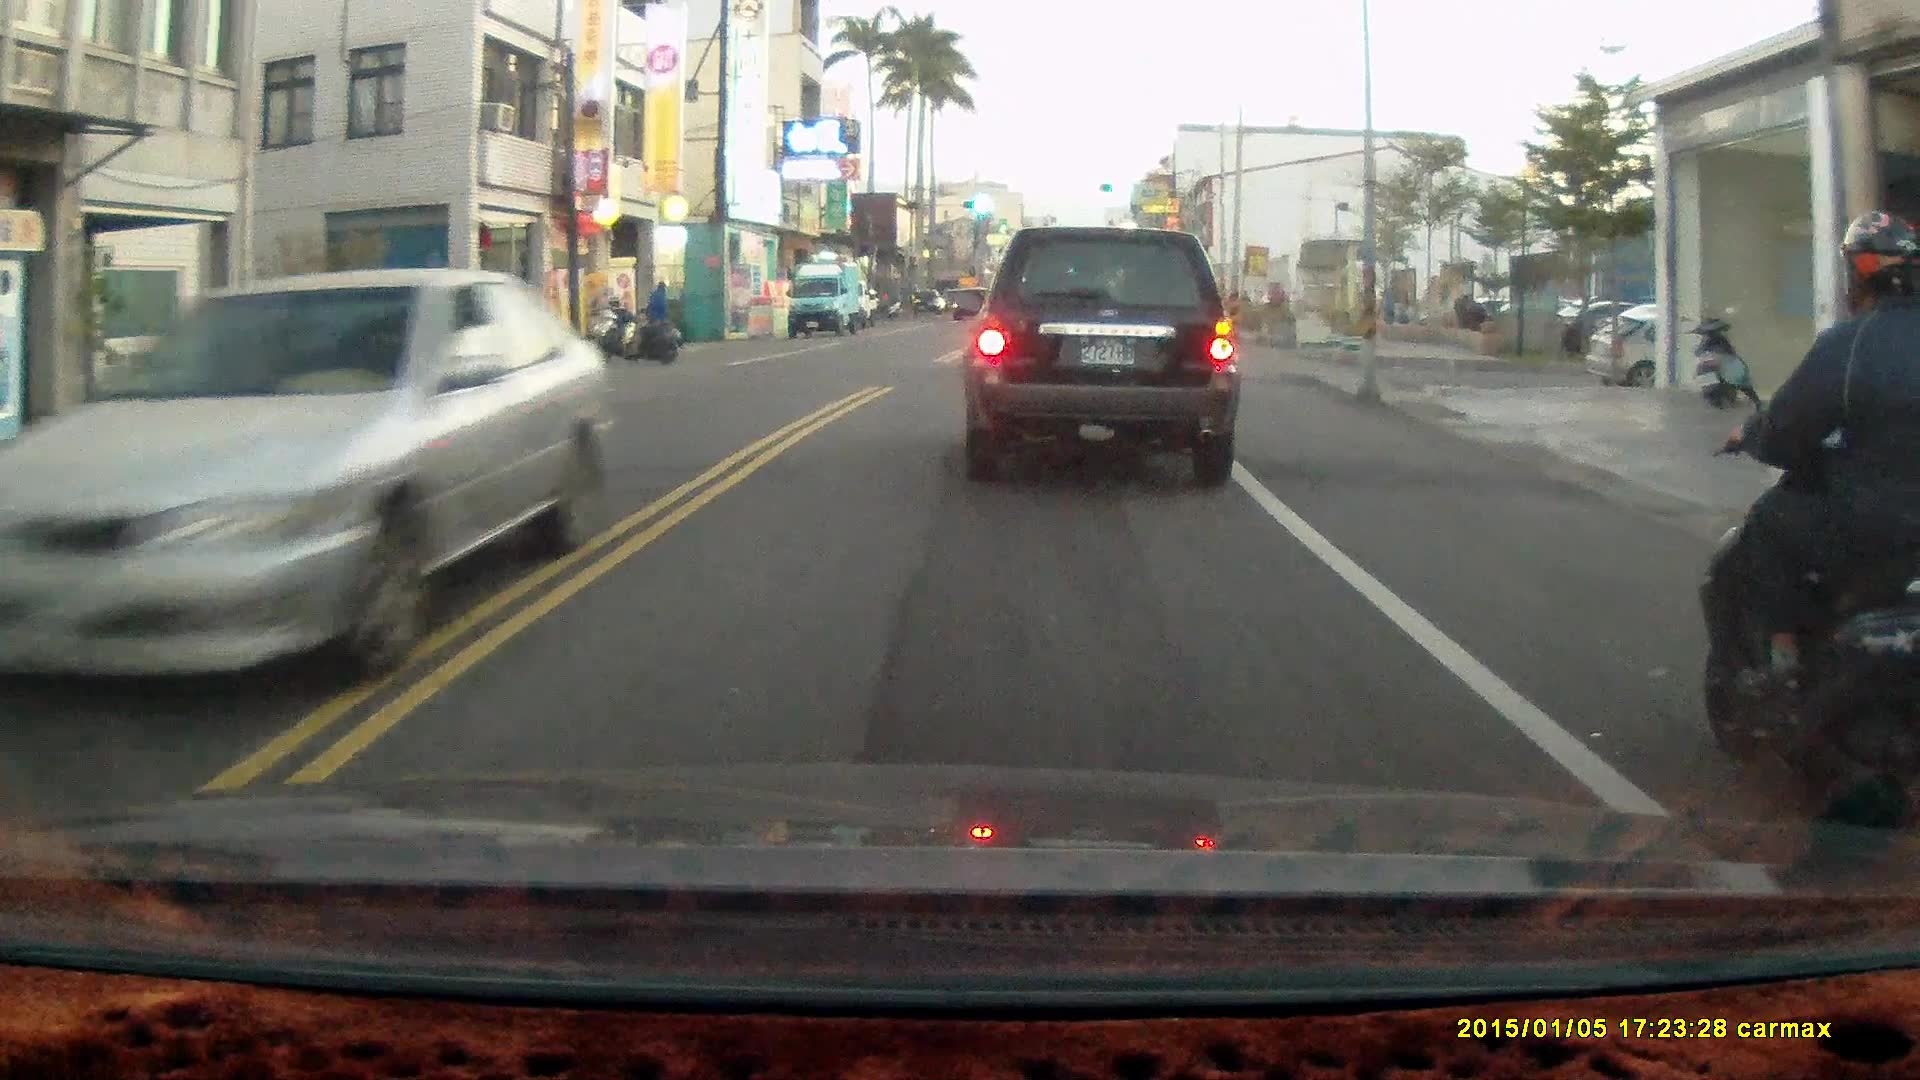pedestrian: (643, 274, 674, 348)
rider: (1692, 211, 1919, 846)
vehicle: (4, 267, 623, 722), (970, 225, 1247, 492), (1584, 317, 1798, 402), (786, 265, 870, 343)
